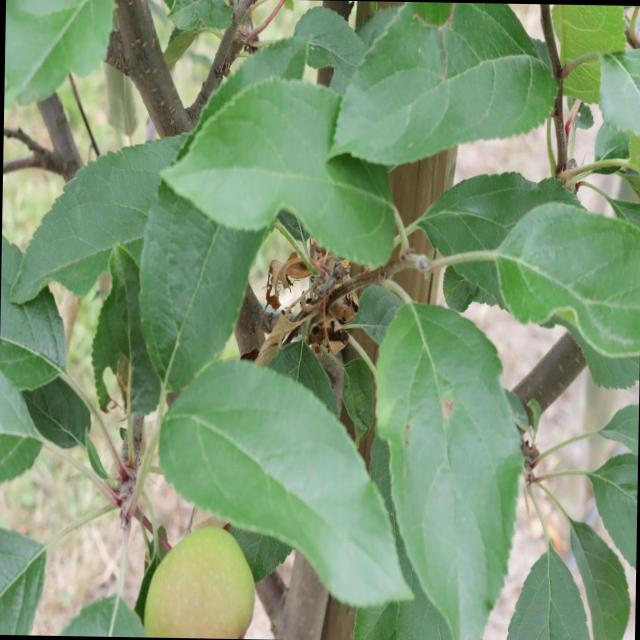-FireBlight-: (260, 256, 355, 354)
